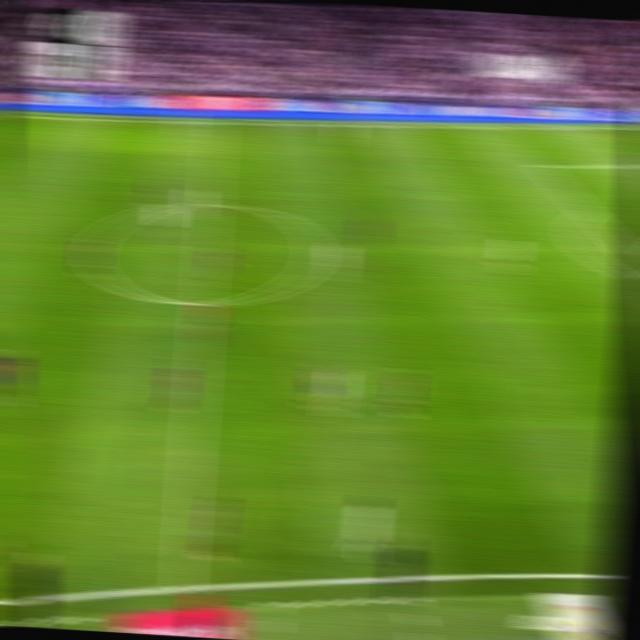bigarea_top_inner: (531, 160, 552, 172)
corner: (620, 123, 640, 131)
halfcircle_bottom: (190, 292, 215, 313)
halfcircle_top: (198, 194, 222, 214)
midline_bottom_intersection: (167, 569, 198, 599)
midline_top_intersection: (206, 116, 226, 129)
top_arc_area_intersection: (578, 205, 599, 218)
